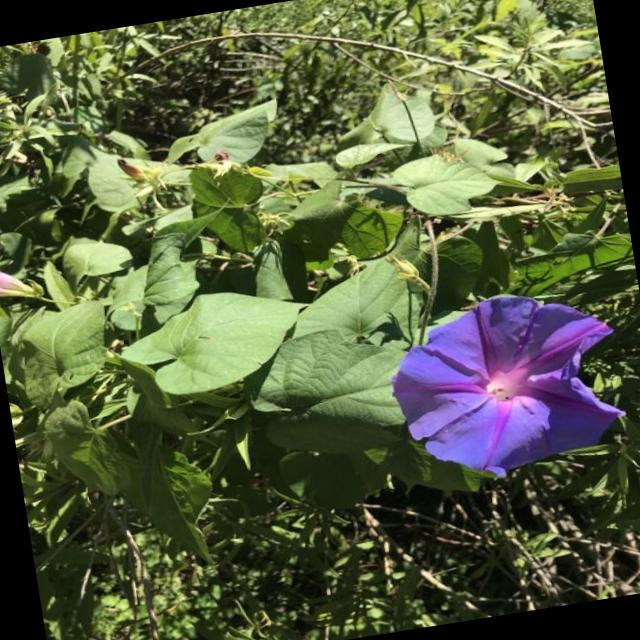ipomoea: (376, 276, 637, 494)
